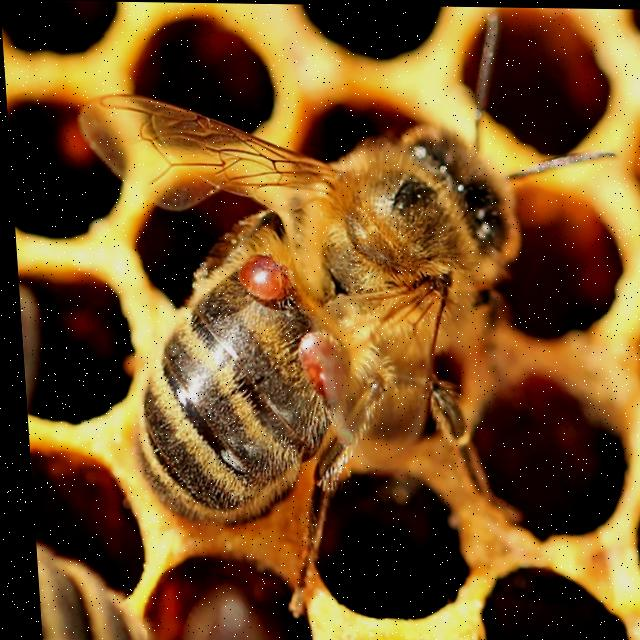Meliponula: (66, 75, 569, 588)
